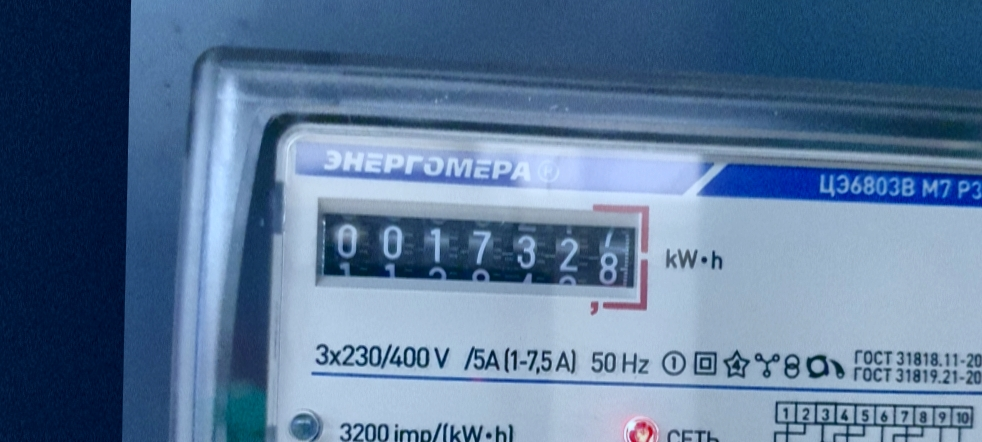0: (334, 220, 361, 260), (382, 222, 405, 261)
1: (427, 225, 446, 265)
2: (558, 236, 581, 273)
3: (516, 233, 539, 269)
7: (471, 227, 494, 267)
8: (599, 249, 618, 285)
screen: (305, 194, 661, 318)
